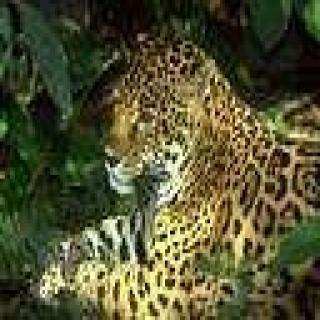Leopard: (67, 52, 320, 320)
